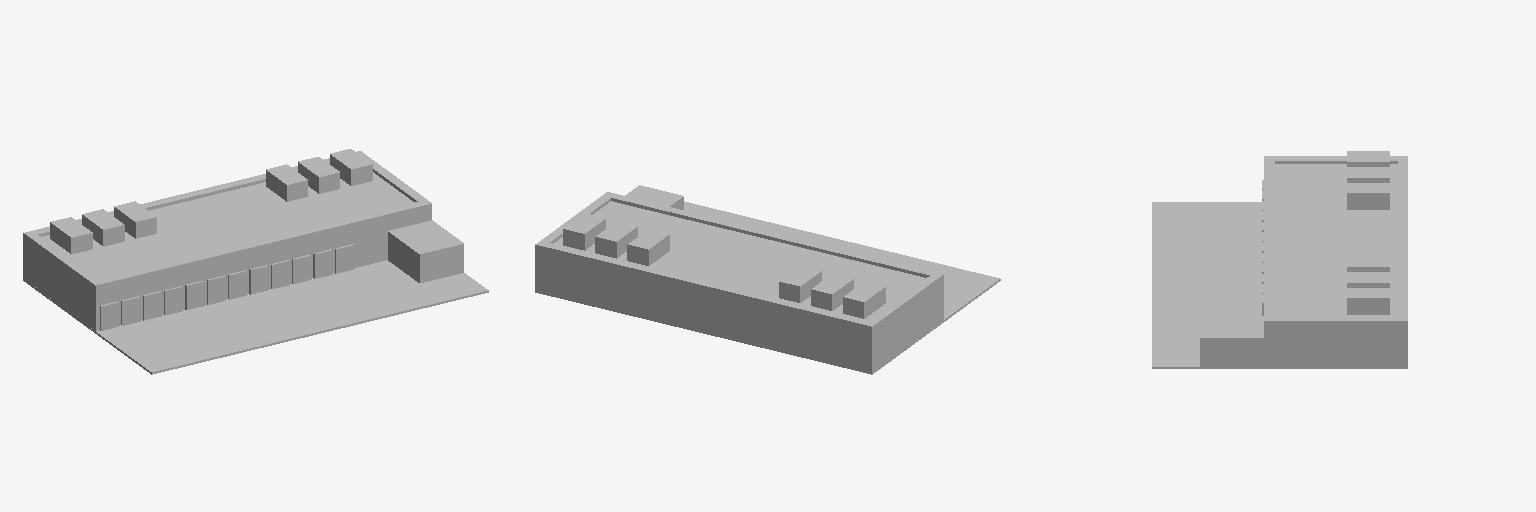
File: Factory1.obj
3 views of the same model, side by side, from view 1: azimuth 30°, elevation 25°; view 2: azimuth 150°, elevation 25°; view 3: azimuth 270°, elevation 25° (orthographic).
Visible parts, largest first — view 1: Building_Cube.006, Factory_Cube, Cube.003_Cube.079, Aircon.003_Cube.064, Aircon.002_Cube.063, Aircon_Cube.061, Aircon.004_Cube.065, Aircon.005_Cube.066, Aircon.001_Cube.062; view 2: Building_Cube.006, Factory_Cube, Aircon.003_Cube.064, Aircon.002_Cube.063, Aircon_Cube.061, Aircon.001_Cube.062, Aircon.005_Cube.066, Aircon.004_Cube.065, Cube.003_Cube.079; view 3: Building_Cube.006, Factory_Cube, Cube.003_Cube.079, Aircon_Cube.061, Aircon.005_Cube.066, Aircon.001_Cube.062, Aircon.003_Cube.064, Aircon.004_Cube.065, Aircon.002_Cube.063.
Boxes of the visible parts, x1=… form: Building_Cube.006: x1=23, y1=151, x2=431, y2=330; Factory_Cube: x1=23, y1=260, x2=488, y2=374; Cube.003_Cube.079: x1=388, y1=220, x2=463, y2=282; Aircon.003_Cube.064: x1=50, y1=217, x2=92, y2=254; Aircon.002_Cube.063: x1=266, y1=164, x2=307, y2=201; Aircon_Cube.061: x1=330, y1=149, x2=372, y2=185; Aircon.004_Cube.065: x1=82, y1=209, x2=124, y2=246; Aircon.005_Cube.066: x1=114, y1=201, x2=156, y2=238; Aircon.001_Cube.062: x1=298, y1=157, x2=339, y2=193; Building_Cube.006: x1=535, y1=192, x2=943, y2=371; Factory_Cube: x1=535, y1=201, x2=1000, y2=374; Aircon.003_Cube.064: x1=843, y1=281, x2=885, y2=318; Aircon.002_Cube.063: x1=627, y1=229, x2=669, y2=265; Aircon_Cube.061: x1=563, y1=213, x2=605, y2=250; Aircon.001_Cube.062: x1=595, y1=221, x2=637, y2=258; Aircon.005_Cube.066: x1=779, y1=266, x2=821, y2=302; Aircon.004_Cube.065: x1=811, y1=274, x2=853, y2=310; Cube.003_Cube.079: x1=625, y1=185, x2=683, y2=209; Building_Cube.006: x1=1264, y1=156, x2=1407, y2=366; Factory_Cube: x1=1152, y1=202, x2=1407, y2=368; Cube.003_Cube.079: x1=1200, y1=316, x2=1263, y2=366; Aircon_Cube.061: x1=1347, y1=288, x2=1389, y2=314; Aircon.005_Cube.066: x1=1347, y1=183, x2=1389, y2=209; Aircon.001_Cube.062: x1=1347, y1=272, x2=1389, y2=287; Aircon.003_Cube.064: x1=1347, y1=151, x2=1389, y2=166; Aircon.004_Cube.065: x1=1347, y1=167, x2=1389, y2=182; Aircon.002_Cube.063: x1=1347, y1=257, x2=1389, y2=271.
Bounding box in the file's own units: 316 × 55 × 208.